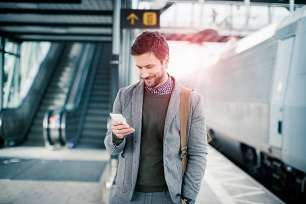male: (128, 30, 180, 97)
